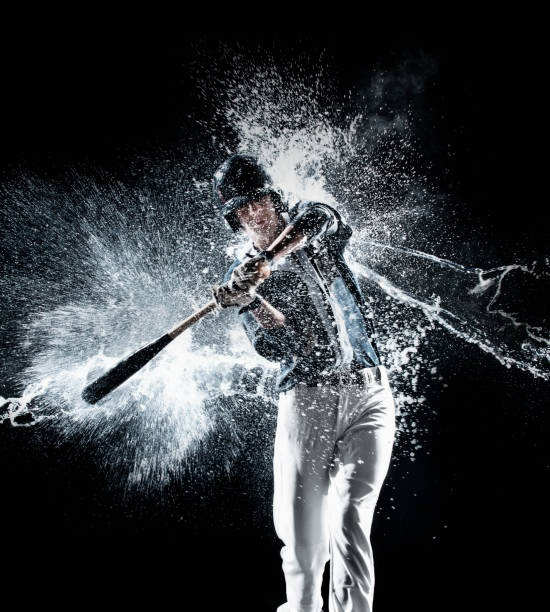bita: (85, 248, 285, 405)
